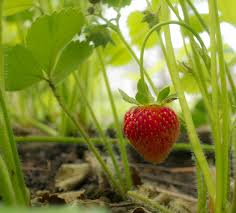Fresa: (120, 95, 183, 168)
